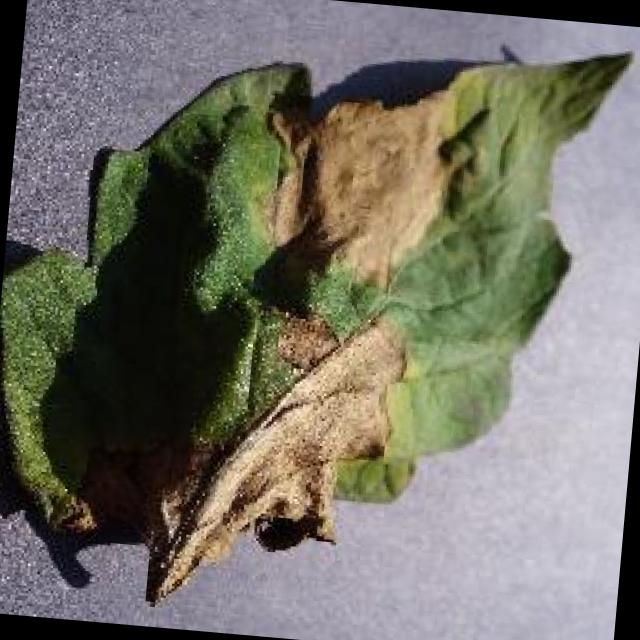Tomato_Late_Blight: (141, 292, 425, 618), (256, 26, 472, 299)
